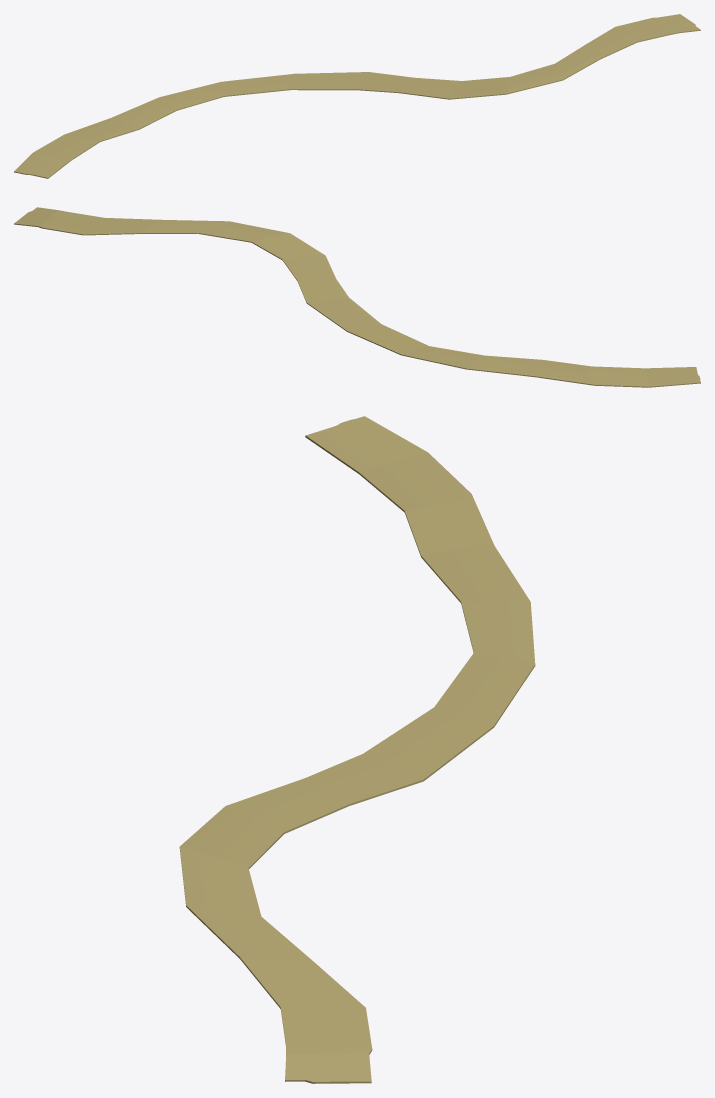
Rendered from PlatformLine03.fbx.
3 views of the same model, one above another, from view 1: azimuth 30°, elevation 25°; view 2: azimuth 150°, elevation 25°; view 3: azimuth 270°, elevation 25° (orthographic). The views are drawn at different scales.
Visible parts, largest first — view 1: Cube.011; view 2: Cube.011; view 3: Cube.011.
Part boxes in pixels (bbox=[...]): Cube.011: bbox=[14, 14, 700, 178]; Cube.011: bbox=[14, 207, 700, 387]; Cube.011: bbox=[179, 416, 535, 1083].
Bounding box in the file's own units: 3912 × 58.33 × 900.
